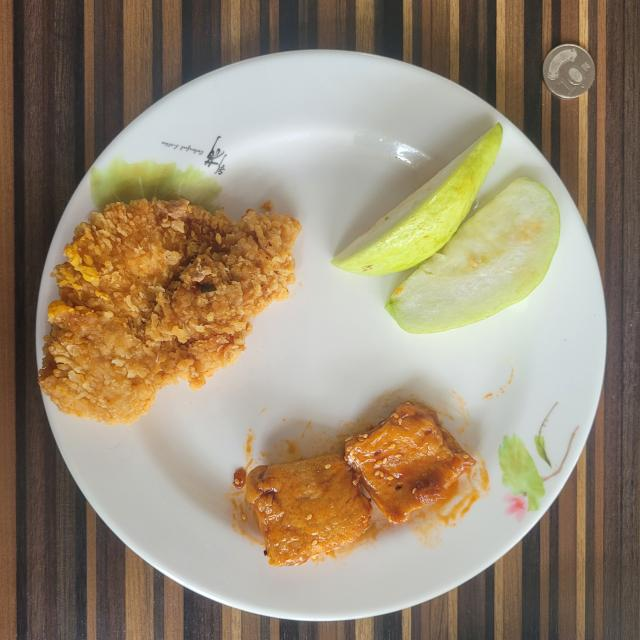coin: (542, 44, 595, 99)
creamy tofu: (234, 401, 475, 566)
fried chicken cutlet: (39, 199, 301, 424)
guava -sliced-: (332, 124, 560, 334)
